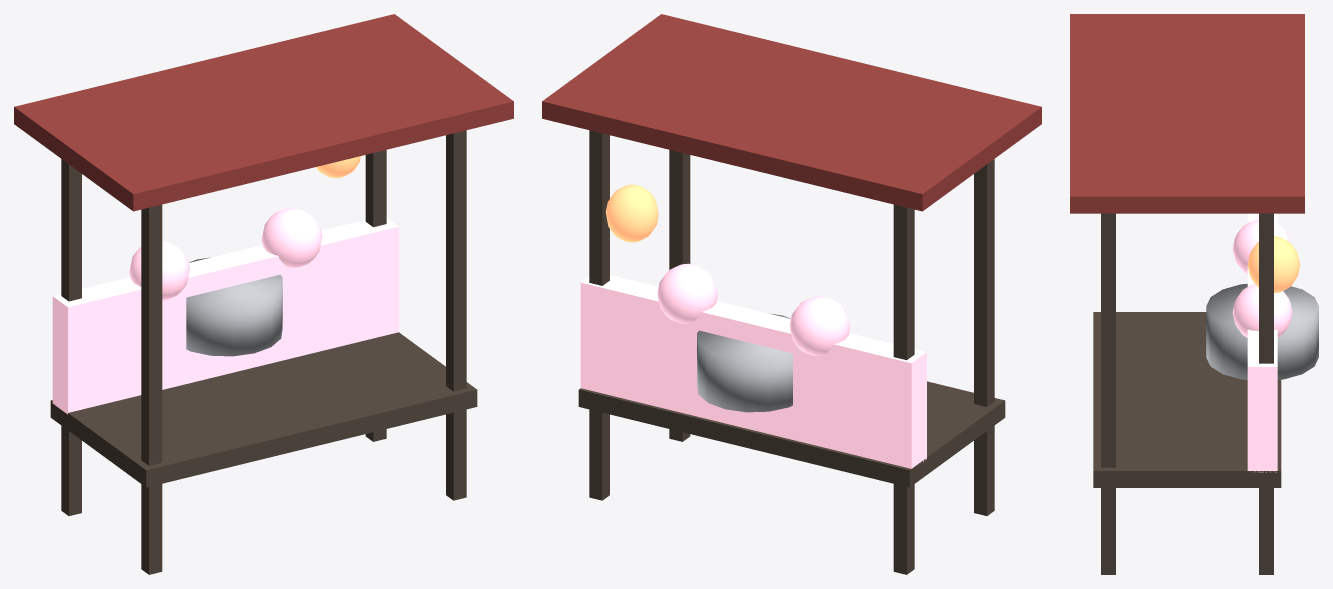
File: prop_yatai_wata.glb
3 renders of one model, left to right at view 1: azimuth 30°, elevation 25°; view 2: azimuth 150°, elevation 25°; view 3: azimuth 270°, elevation 25°, orthographic.
Visible parts, largest first — view 1: yatai_wata; view 2: yatai_wata; view 3: yatai_wata.
Boxes of the visible parts, bbox=[...] form: yatai_wata: bbox=[14, 14, 513, 574]; yatai_wata: bbox=[542, 14, 1041, 574]; yatai_wata: bbox=[1070, 14, 1318, 574].
Size of the model in its own units: 2.3 by 2.31 by 1.33.
